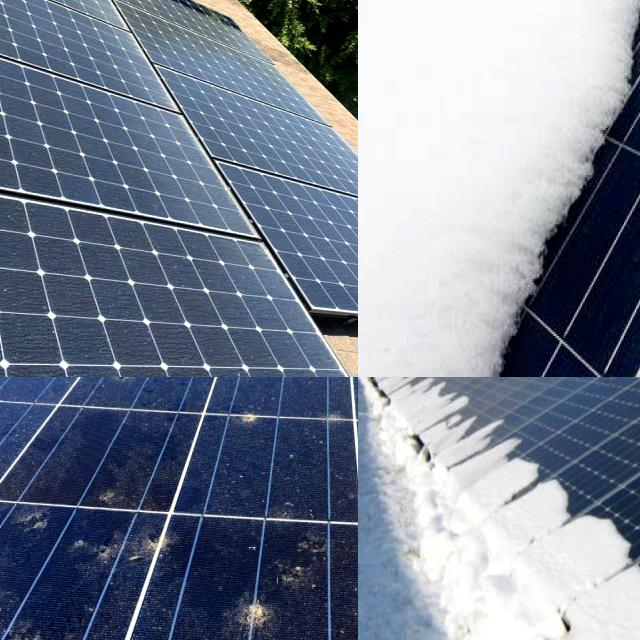bird: (2, 466, 154, 600), (218, 586, 294, 640), (233, 377, 289, 443), (318, 382, 358, 450), (80, 377, 139, 413), (0, 621, 70, 640)
dust: (0, 182, 130, 377), (115, 243, 291, 377), (67, 0, 212, 114), (0, 46, 108, 173), (101, 126, 229, 211), (0, 0, 97, 51)
panel: (486, 495, 624, 640), (483, 214, 562, 377), (390, 394, 498, 512), (556, 80, 632, 232), (431, 377, 492, 463), (569, 505, 637, 581), (523, 0, 618, 42), (559, 377, 640, 418), (534, 462, 579, 528), (419, 0, 504, 30), (494, 430, 538, 487), (358, 0, 423, 24), (358, 377, 426, 399), (358, 0, 407, 27), (445, 377, 503, 399), (503, 377, 551, 402), (397, 377, 454, 398)
